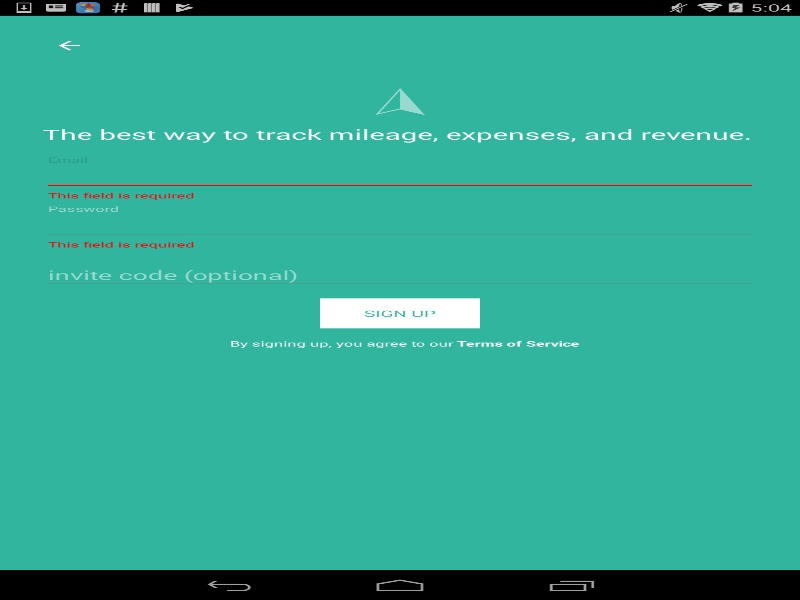Button: (320, 298, 480, 328), (32, 25, 106, 65)
Input: (42, 162, 757, 190), (42, 211, 757, 239), (42, 260, 757, 288)
